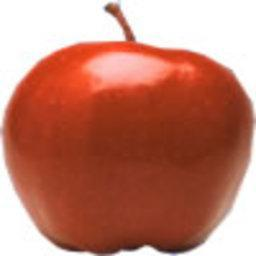apple: (0, 35, 251, 253)
